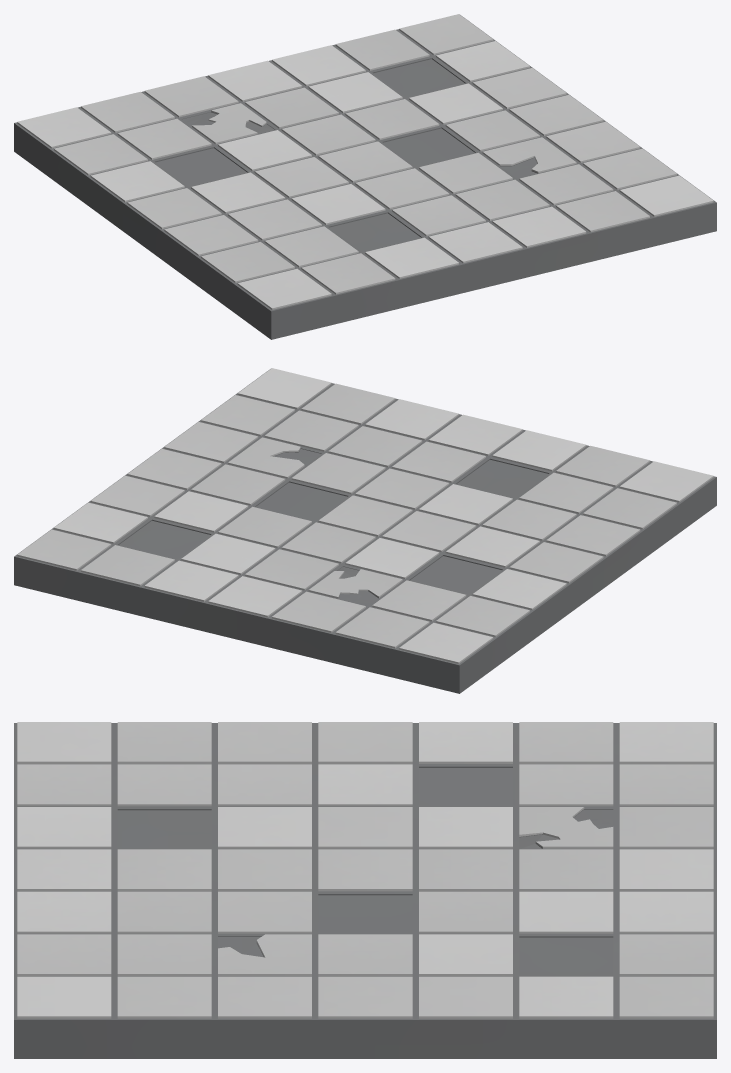
The model's file is tile_floor_1_damaged_1.dae.
3 renders of one model, top to bottom at view 1: azimuth 30°, elevation 25°; view 2: azimuth 150°, elevation 25°; view 3: azimuth 270°, elevation 25°, orthographic. The views are drawn at different scales.
Parts seen in each view (by area): view 1: tile_floor_1_damaged_1; view 2: tile_floor_1_damaged_1; view 3: tile_floor_1_damaged_1.
Part boxes in pixels (left/top/right/bottom): tile_floor_1_damaged_1: left=14, top=14, right=716, bottom=339; tile_floor_1_damaged_1: left=14, top=368, right=716, bottom=693; tile_floor_1_damaged_1: left=14, top=722, right=716, bottom=1058.
Bounding box in the file's own units: 2 × 2 × 0.1294.
